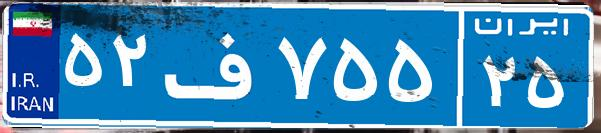2: (475, 38, 525, 113), (110, 28, 158, 105)
5: (385, 28, 445, 110), (330, 28, 385, 110), (57, 26, 110, 107), (525, 38, 570, 115)
7: (273, 28, 330, 110)
ف: (158, 15, 273, 115)
